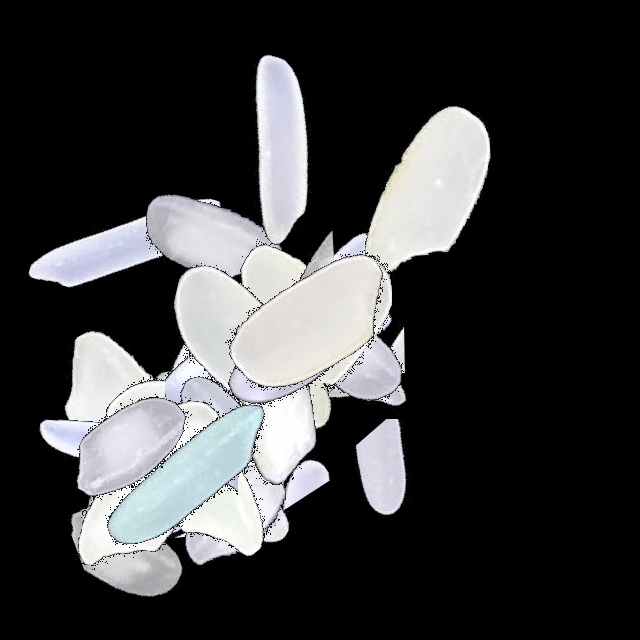Broken: (80, 417, 330, 591), (0, 392, 250, 564), (111, 311, 361, 481), (146, 245, 396, 415), (36, 451, 286, 620), (79, 366, 329, 521), (165, 258, 318, 508), (126, 283, 376, 434), (316, 242, 465, 492), (288, 419, 538, 563), (72, 303, 322, 447), (102, 339, 238, 589), (222, 261, 348, 511), (210, 155, 335, 405), (116, 241, 366, 358), (164, 351, 276, 601), (2, 464, 252, 569), (228, 272, 478, 373), (162, 214, 412, 313), (218, 227, 300, 477), (263, 188, 341, 438), (140, 440, 390, 515)
Full: (85, 353, 335, 603), (1, 296, 251, 546), (0, 364, 250, 614), (170, 254, 420, 504), (225, 228, 475, 478), (0, 113, 250, 363), (174, 184, 424, 434), (139, 256, 389, 506), (170, 226, 420, 476), (300, 62, 550, 312), (175, 227, 425, 477), (53, 273, 303, 523), (112, 379, 362, 629), (10, 318, 260, 568), (134, 276, 384, 526), (88, 115, 338, 365), (73, 349, 323, 599), (72, 303, 322, 553), (149, 24, 399, 274), (184, 194, 434, 444), (28, 358, 278, 608), (129, 226, 379, 476), (155, 294, 405, 544), (64, 351, 314, 601), (204, 198, 454, 448), (0, 322, 250, 572), (160, 231, 410, 481), (187, 198, 437, 448)
